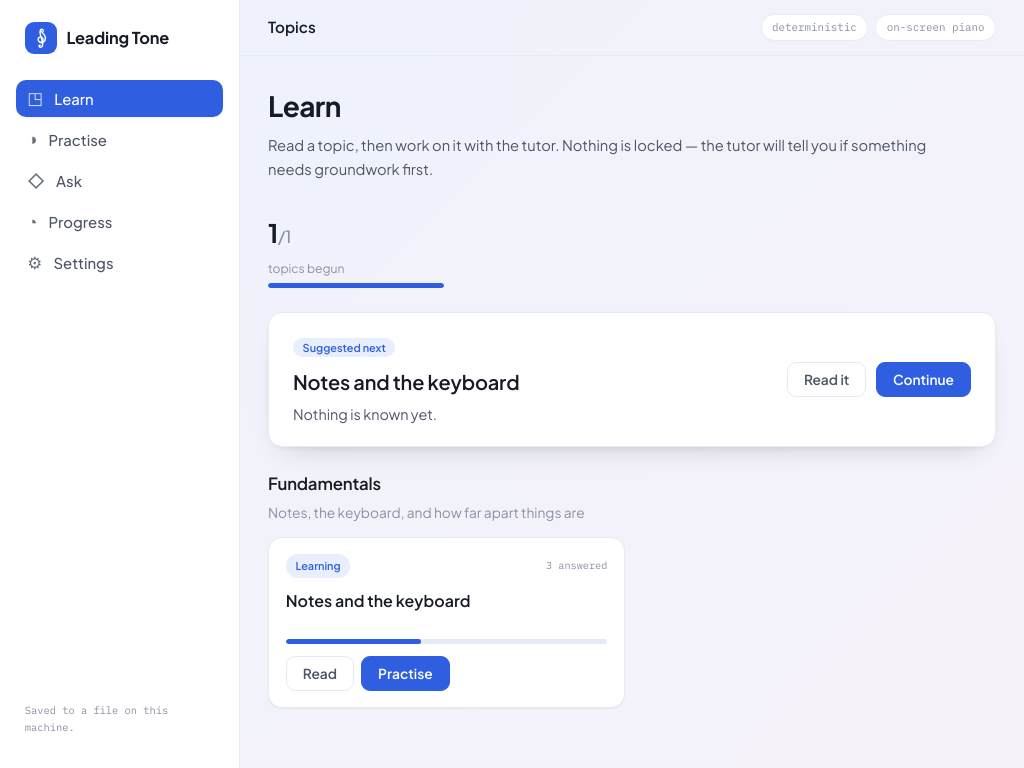
App › moves to the tutor, and sends a typed answer to the open exercise
The image size is (1024, 768).
Expected: the heading "Learn" is shown, [268,88,341,123]
# The sidebar item, not one of the per-topic Practise buttons.
Click the button titled "Work with the tutor" at (120, 140), box [16,121,223,158]
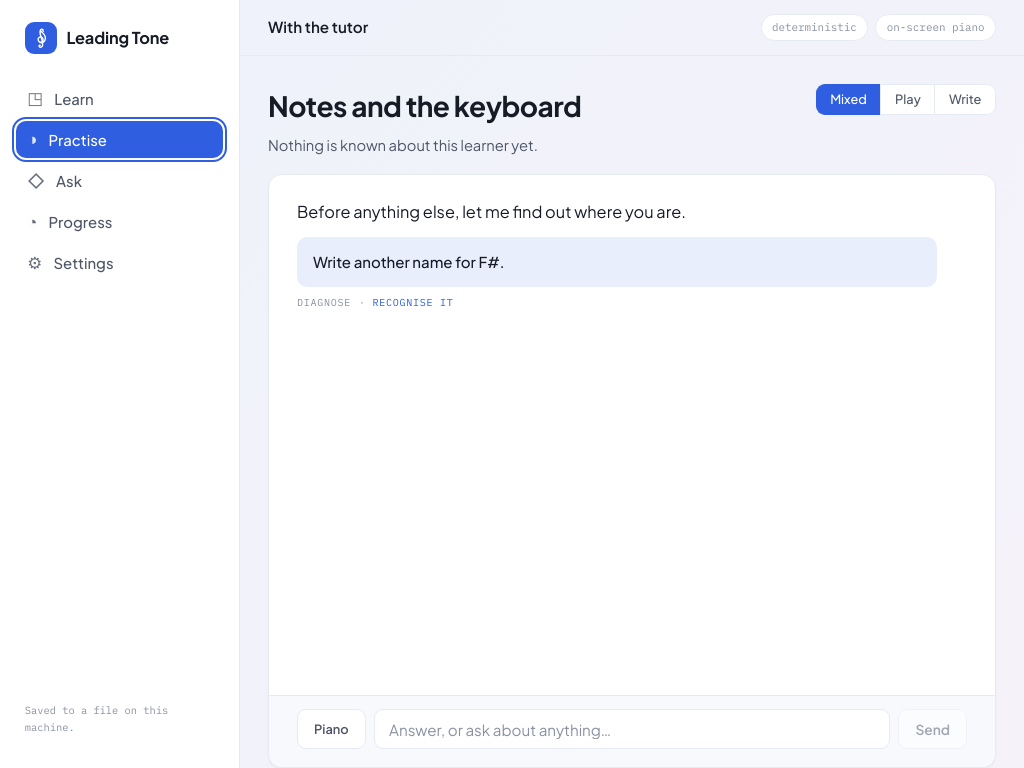
Now the text "Before anything else, let me find out where you are." is shown, box [297,200,686,222]
Type "Gb" into the field named "Message the teacher" at (632, 729), box [374,709,890,749]
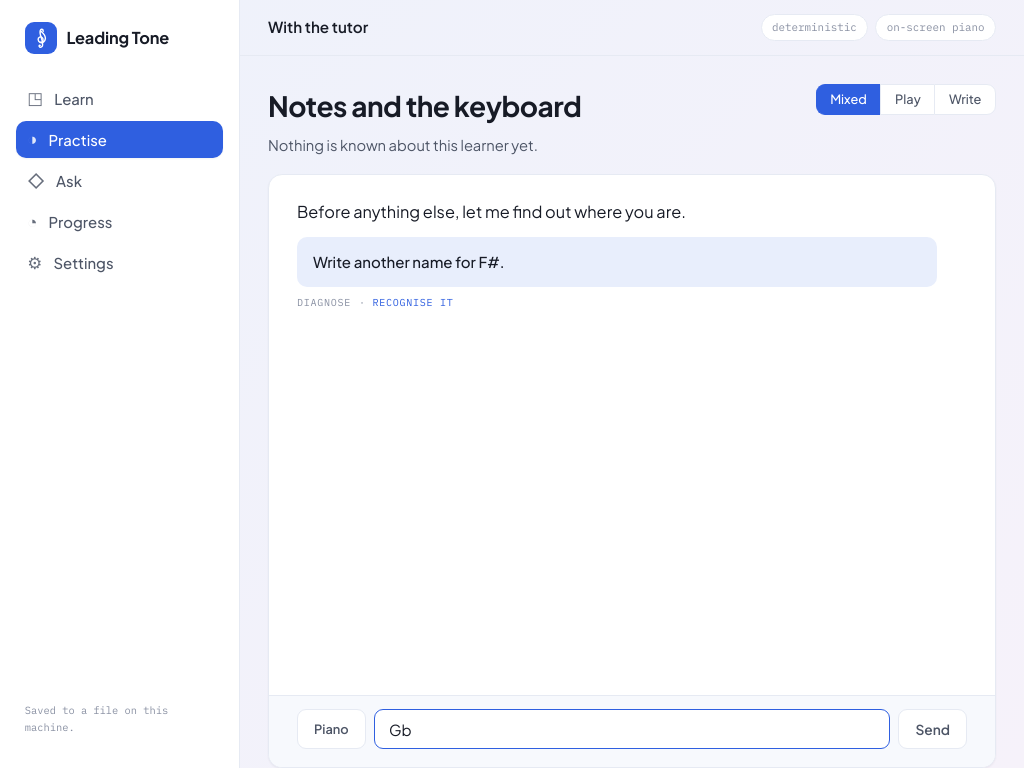
Click the button "Send" at (933, 729), box [898,709,967,749]
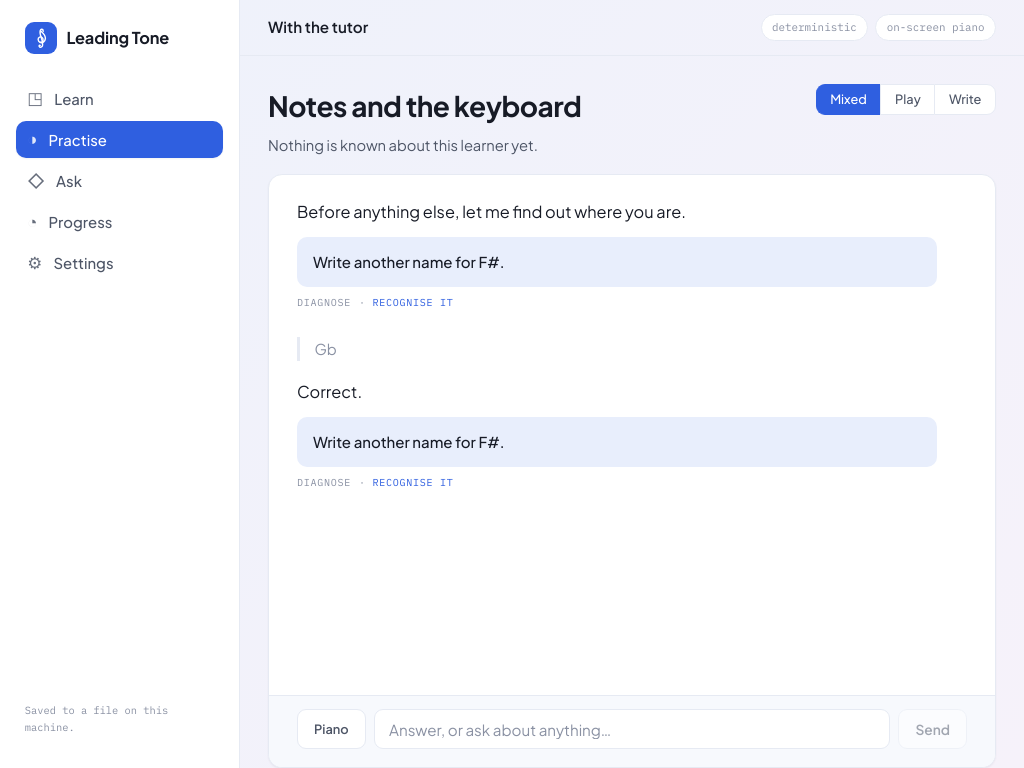
Now the text "Gb" is shown, box [314,339,337,358]
